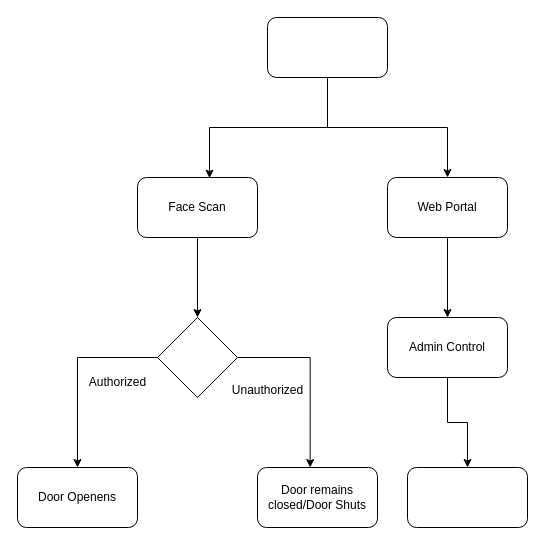
Image size: 545x545. Some labels were removed from this diagram. Each missing label, with the centre of its shape:
"Door opens/Closes" goes at [467,497].
"FRACS" goes at [327,47].
"Recognition" goes at [197,357].
